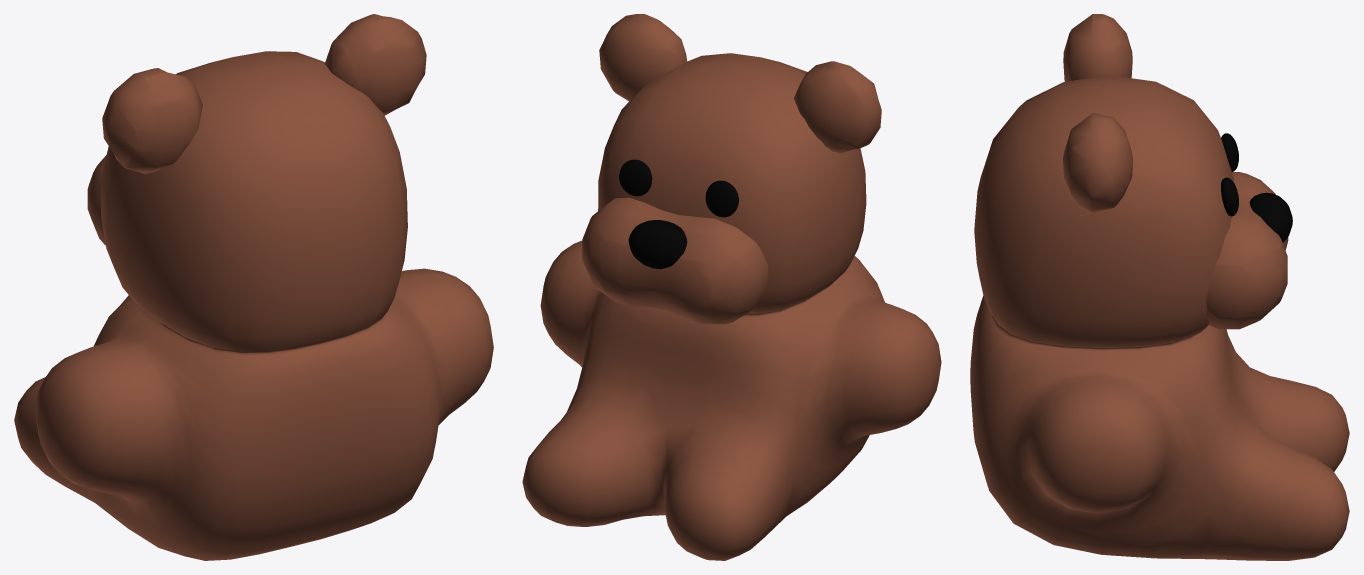
File: Bear.fbx
3 renders of one model, left to right at view 1: azimuth 30°, elevation 25°; view 2: azimuth 150°, elevation 25°; view 3: azimuth 270°, elevation 25°, orthographic. The views are drawn at different scales.
Parts seen in each view (by area): view 1: Mball.004; view 2: Mball.004; view 3: Mball.004.
Boxes of the visible parts, x1,y1,x2,y2 form: Mball.004: (14, 14, 493, 560); Mball.004: (522, 14, 941, 560); Mball.004: (970, 14, 1349, 560).
Size of the model in its own units: 351 by 385 by 289.
